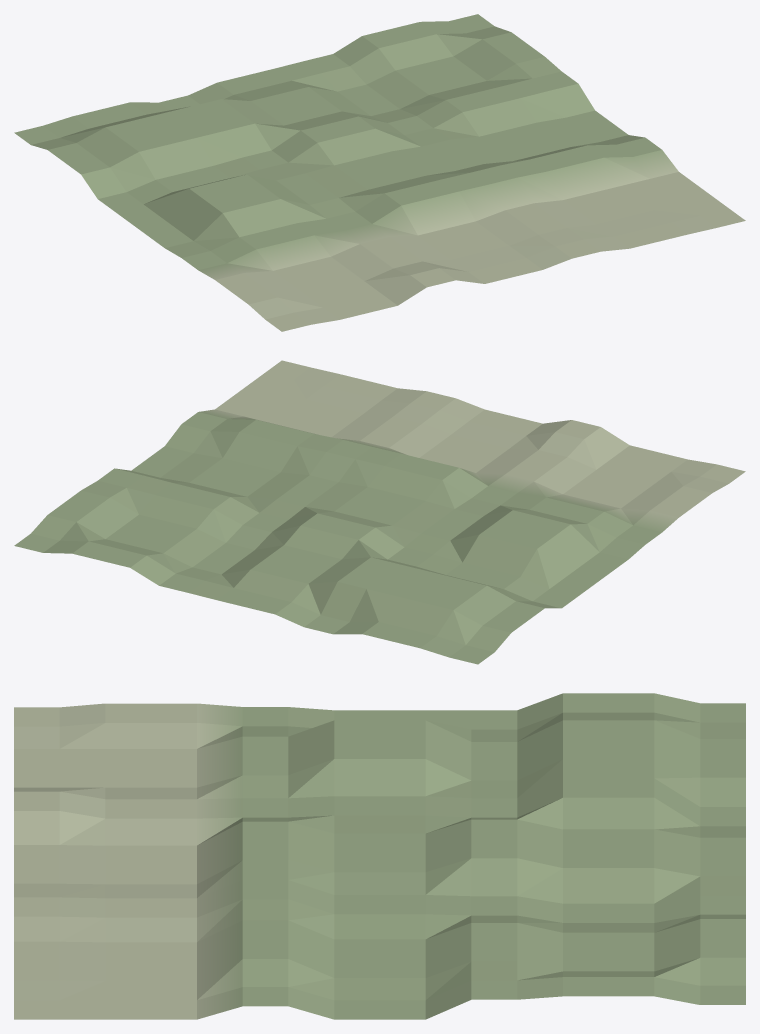
3 views of the same model, one above another, from view 1: azimuth 30°, elevation 25°; view 2: azimuth 150°, elevation 25°; view 3: azimuth 270°, elevation 25° (orthographic). The views are drawn at different scales.
Bounding box in the file's own units: 32 × 1.38 × 32.
